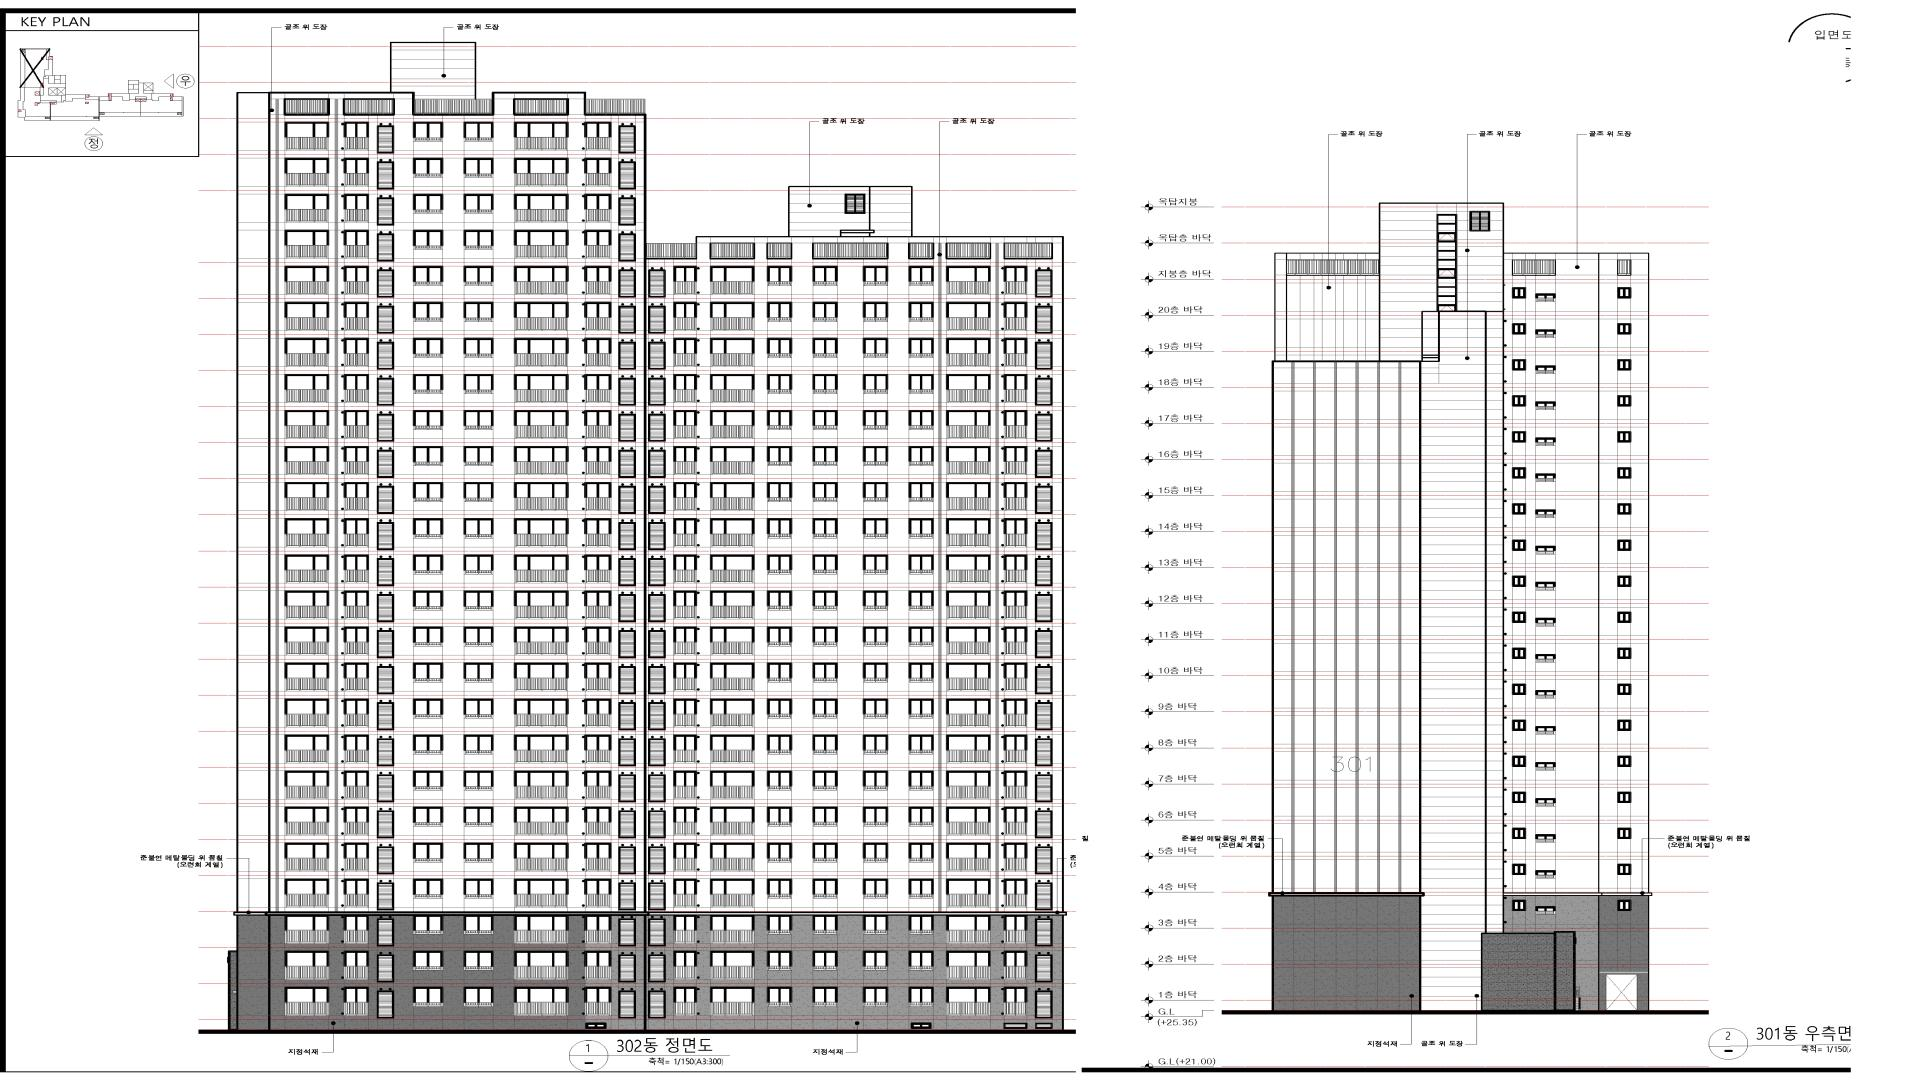door: (1606, 975, 1638, 1010)
wall: (228, 42, 1064, 1034), (1271, 203, 1650, 1014)
window: (514, 518, 568, 547), (514, 446, 568, 475), (514, 373, 568, 402), (514, 338, 568, 367), (514, 302, 568, 331), (514, 194, 568, 223), (514, 121, 568, 150), (514, 878, 568, 907), (514, 770, 568, 799), (514, 662, 568, 691), (514, 626, 568, 655), (514, 591, 568, 620), (514, 229, 567, 258), (514, 555, 568, 583), (514, 483, 568, 510), (514, 410, 568, 438), (514, 266, 568, 294), (514, 158, 568, 186), (514, 988, 568, 1015), (513, 951, 567, 978), (514, 915, 568, 943), (514, 843, 568, 870), (514, 807, 568, 835), (514, 699, 568, 727), (1286, 260, 1379, 276), (516, 735, 568, 762), (709, 265, 754, 295), (947, 373, 990, 404), (947, 806, 990, 836), (947, 265, 990, 295), (285, 265, 330, 294), (709, 302, 754, 331), (945, 699, 990, 728), (945, 662, 990, 691), (945, 555, 990, 584), (945, 447, 990, 476), (945, 410, 990, 439), (284, 554, 328, 583), (709, 375, 754, 404), (709, 518, 754, 547), (709, 662, 754, 691), (709, 843, 754, 872), (284, 699, 330, 727), (284, 735, 330, 762), (947, 770, 990, 799), (947, 735, 990, 764), (947, 626, 990, 655), (947, 591, 990, 620), (947, 518, 990, 547), (947, 483, 990, 512), (947, 338, 990, 367), (285, 662, 328, 691), (711, 338, 754, 367), (711, 410, 754, 439), (711, 446, 754, 475), (711, 483, 754, 512), (711, 554, 754, 583), (711, 591, 754, 620), (711, 626, 754, 655), (711, 699, 754, 728), (711, 735, 754, 764), (711, 770, 754, 799), (711, 807, 754, 836), (711, 878, 754, 907), (711, 915, 754, 944), (711, 951, 754, 980), (711, 986, 754, 1015), (947, 986, 990, 1015), (947, 951, 990, 980), (947, 914, 990, 943), (947, 878, 990, 907), (947, 843, 990, 872), (947, 302, 990, 331), (285, 121, 330, 149), (285, 158, 330, 186), (285, 194, 330, 222), (285, 229, 330, 257), (285, 302, 330, 330), (285, 338, 330, 365), (285, 375, 330, 402), (285, 410, 330, 438), (285, 446, 330, 473), (285, 483, 330, 510), (285, 518, 330, 546), (285, 591, 330, 618), (285, 626, 330, 654), (285, 770, 330, 798), (285, 807, 330, 835), (285, 843, 330, 870), (285, 878, 330, 906), (285, 915, 330, 943), (285, 951, 330, 978), (285, 986, 330, 1014), (1436, 241, 1457, 277), (344, 554, 369, 583), (344, 626, 369, 655), (344, 699, 369, 728), (344, 735, 369, 764), (344, 770, 369, 799), (344, 878, 369, 907), (344, 951, 369, 980), (585, 626, 611, 655), (585, 591, 611, 620), (585, 554, 611, 583), (585, 518, 611, 547), (585, 446, 611, 475), (585, 410, 611, 439), (585, 338, 611, 367), (585, 302, 611, 331), (344, 986, 369, 1015), (585, 986, 611, 1015), (585, 951, 611, 980), (585, 914, 611, 943), (585, 878, 611, 907), (585, 843, 611, 872), (585, 770, 611, 799), (585, 735, 611, 764), (585, 229, 611, 258), (585, 194, 611, 223), (585, 121, 611, 150), (344, 121, 369, 150), (344, 194, 369, 223), (344, 302, 369, 331), (344, 410, 369, 439), (344, 446, 369, 475), (1004, 554, 1027, 584), (1436, 278, 1457, 311), (344, 591, 369, 618), (344, 807, 369, 835), (585, 483, 611, 510), (585, 375, 611, 402), (585, 266, 611, 294), (585, 807, 611, 835), (585, 699, 611, 727), (585, 663, 611, 691), (585, 158, 611, 186), (344, 158, 369, 186), (344, 375, 369, 402), (344, 483, 369, 510), (344, 518, 368, 547), (344, 662, 368, 691), (344, 843, 368, 872), (344, 915, 368, 944), (674, 554, 698, 583), (1004, 375, 1027, 404), (1004, 338, 1027, 367), (1004, 302, 1027, 331), (1004, 266, 1027, 295), (674, 446, 698, 475), (1004, 770, 1027, 799), (1004, 698, 1027, 727), (1004, 591, 1027, 620), (1004, 518, 1027, 547), (1004, 481, 1027, 510), (1004, 446, 1027, 475), (1004, 410, 1027, 439), (344, 229, 368, 258), (344, 338, 368, 367), (674, 951, 698, 980), (1004, 986, 1027, 1015), (1004, 951, 1027, 980), (1004, 914, 1027, 943), (1004, 878, 1027, 907), (1004, 843, 1027, 872), (1004, 807, 1027, 836), (1511, 260, 1555, 276), (344, 266, 368, 294), (674, 483, 696, 512), (674, 518, 696, 547), (674, 591, 696, 620), (674, 626, 696, 655), (674, 662, 696, 691), (674, 699, 696, 728), (674, 735, 696, 764), (674, 770, 696, 799), (674, 807, 696, 836), (674, 843, 696, 872), (674, 878, 696, 907), (674, 266, 696, 295), (674, 302, 696, 331), (674, 338, 696, 367), (674, 375, 696, 404), (674, 410, 696, 439), (1005, 735, 1027, 764), (1005, 662, 1027, 691), (1005, 626, 1027, 655), (674, 915, 696, 944), (674, 986, 696, 1015), (463, 554, 493, 575), (463, 914, 493, 935), (413, 914, 443, 935), (413, 554, 443, 575), (647, 338, 666, 371), (463, 121, 493, 141), (463, 375, 493, 394), (463, 662, 493, 682), (463, 843, 493, 862), (463, 878, 493, 898), (413, 986, 443, 1006), (413, 951, 443, 971), (413, 878, 443, 898), (413, 843, 443, 862), (413, 807, 443, 827), (413, 770, 443, 790), (413, 735, 443, 754), (413, 699, 443, 719), (413, 662, 443, 682), (413, 591, 443, 611), (413, 518, 443, 538), (413, 483, 443, 502), (413, 446, 443, 465), (413, 410, 443, 430), (413, 375, 443, 394), (413, 338, 443, 357), (413, 302, 443, 322), (413, 266, 443, 286), (463, 158, 493, 178), (463, 266, 493, 286), (463, 302, 493, 322), (463, 338, 493, 357), (413, 229, 443, 249), (413, 194, 443, 214), (413, 158, 443, 178), (413, 121, 443, 141), (647, 410, 666, 442), (647, 483, 666, 514), (647, 699, 666, 731), (647, 735, 666, 766), (647, 771, 666, 803), (647, 915, 666, 947), (1436, 214, 1457, 241), (464, 410, 493, 430), (464, 446, 493, 465), (464, 483, 493, 502), (464, 518, 493, 538), (464, 591, 493, 611), (464, 626, 493, 646), (464, 699, 493, 719), (464, 735, 493, 754), (464, 770, 493, 790), (464, 807, 493, 827), (464, 951, 493, 971), (464, 986, 493, 1006), (414, 626, 443, 646), (464, 194, 493, 214), (464, 229, 493, 249), (618, 770, 636, 803), (618, 446, 636, 479), (618, 265, 636, 298), (649, 878, 666, 911), (649, 986, 666, 1019), (1035, 662, 1052, 695), (377, 121, 394, 154), (862, 878, 889, 899), (862, 806, 889, 827), (766, 914, 793, 935), (377, 843, 394, 874), (377, 915, 394, 947), (377, 951, 394, 982), (377, 986, 394, 1018), (618, 986, 636, 1018), (618, 951, 636, 982), (618, 914, 636, 945), (618, 878, 636, 910), (618, 843, 636, 874), (618, 807, 636, 839), (618, 735, 636, 766), (618, 699, 636, 731), (618, 663, 636, 695), (618, 626, 636, 658), (618, 591, 636, 622), (618, 555, 636, 587), (618, 518, 636, 550), (618, 483, 636, 514), (618, 410, 636, 442), (618, 375, 636, 406), (618, 338, 636, 369), (618, 302, 636, 334), (618, 229, 636, 261), (618, 194, 636, 225), (618, 158, 636, 190), (618, 121, 636, 153), (649, 266, 666, 298), (649, 302, 666, 334), (649, 375, 666, 406), (649, 447, 666, 479), (649, 518, 666, 550), (649, 555, 666, 587), (649, 591, 666, 622), (649, 626, 666, 658), (649, 663, 666, 695), (649, 807, 666, 839), (649, 843, 666, 874), (649, 951, 666, 982), (1035, 986, 1052, 1018), (1035, 951, 1052, 982), (1035, 915, 1052, 947), (1035, 880, 1052, 911), (1035, 843, 1052, 874), (1035, 807, 1052, 839), (1035, 770, 1052, 802), (1035, 735, 1052, 766), (1035, 699, 1052, 731), (1035, 626, 1052, 658), (1035, 591, 1052, 622), (1035, 555, 1052, 587), (1035, 518, 1052, 550), (1035, 483, 1052, 514), (1035, 446, 1052, 477), (1035, 410, 1052, 442), (1035, 375, 1052, 406), (1035, 338, 1052, 369), (1035, 302, 1052, 334), (1035, 266, 1052, 298), (377, 158, 394, 190), (377, 194, 394, 225), (377, 229, 394, 261), (377, 266, 394, 298), (377, 302, 394, 334), (377, 338, 394, 369), (377, 375, 394, 406), (377, 410, 394, 442), (377, 446, 394, 477), (377, 483, 394, 514), (377, 518, 394, 550), (377, 555, 394, 587), (377, 591, 394, 622), (377, 626, 394, 658), (377, 662, 394, 694), (377, 699, 394, 731), (377, 735, 394, 766), (377, 770, 394, 802), (377, 807, 394, 839), (862, 554, 887, 575), (767, 554, 793, 575), (909, 662, 934, 683), (812, 481, 837, 502), (812, 554, 837, 575), (862, 698, 887, 719), (812, 662, 837, 683), (862, 663, 889, 683), (862, 626, 889, 646), (862, 591, 889, 611), (862, 410, 889, 430), (862, 338, 889, 357), (862, 302, 889, 322), (766, 591, 793, 611), (766, 518, 793, 538), (766, 483, 793, 502), (766, 446, 793, 465), (766, 410, 793, 430), (766, 375, 793, 394), (766, 338, 793, 357), (766, 302, 793, 322), (909, 770, 935, 790), (862, 266, 889, 286), (812, 338, 839, 357), (812, 591, 839, 611), (909, 951, 935, 971), (862, 986, 889, 1006), (862, 915, 889, 935), (862, 843, 889, 862), (862, 770, 889, 790), (862, 735, 889, 754), (812, 735, 839, 754), (812, 807, 839, 827), (812, 986, 839, 1006), (766, 986, 793, 1006), (766, 951, 793, 971), (766, 878, 793, 898), (766, 843, 793, 862), (766, 807, 793, 827), (766, 770, 793, 790), (766, 699, 793, 719), (766, 662, 793, 682), (377, 880, 394, 910), (909, 266, 934, 286), (909, 302, 934, 322), (909, 338, 934, 357), (909, 375, 934, 394), (909, 410, 934, 430), (909, 446, 934, 465), (909, 483, 934, 502), (909, 518, 934, 538), (862, 518, 887, 538), (862, 483, 887, 502), (862, 446, 887, 465), (862, 375, 887, 394), (767, 266, 793, 286), (909, 554, 934, 574), (909, 591, 934, 611), (909, 626, 934, 646), (909, 699, 934, 719), (909, 735, 934, 754), (909, 807, 934, 827), (909, 843, 934, 862), (909, 878, 934, 898), (909, 915, 934, 935), (812, 266, 837, 286), (812, 302, 837, 322), (812, 375, 837, 394), (812, 410, 837, 430), (812, 446, 837, 465), (812, 518, 837, 538), (812, 626, 837, 646), (909, 986, 934, 1006), (862, 951, 887, 971), (812, 699, 837, 719), (812, 770, 837, 790), (812, 843, 837, 862), (812, 878, 837, 898), (812, 915, 837, 935), (812, 951, 837, 971), (767, 735, 793, 754), (767, 626, 793, 646), (1469, 211, 1490, 232), (844, 194, 865, 214), (1617, 260, 1631, 276), (1535, 798, 1556, 807), (1535, 690, 1556, 699), (1535, 582, 1556, 591), (1535, 509, 1556, 518), (1535, 365, 1556, 375), (1511, 899, 1526, 911), (1511, 864, 1526, 876), (1511, 791, 1526, 803), (1511, 647, 1526, 659), (1511, 539, 1526, 551), (1511, 467, 1526, 479), (1511, 431, 1526, 443), (1513, 396, 1527, 407), (1511, 359, 1526, 371), (1511, 323, 1526, 335), (1617, 899, 1631, 911), (1617, 864, 1631, 876), (1617, 791, 1631, 803), (1617, 756, 1631, 767), (1617, 647, 1631, 659), (1617, 612, 1631, 624), (1617, 575, 1631, 587), (1617, 539, 1631, 551), (1617, 467, 1631, 479), (1617, 431, 1631, 443), (1617, 359, 1631, 371), (1617, 323, 1631, 335), (1617, 287, 1631, 299), (1535, 906, 1556, 914), (1535, 870, 1556, 878), (1535, 835, 1556, 843), (1535, 762, 1556, 770), (1535, 727, 1556, 735), (1535, 654, 1556, 662), (1535, 618, 1556, 626), (1535, 546, 1556, 554), (1535, 473, 1556, 481), (1535, 438, 1556, 446), (1535, 402, 1556, 410), (1535, 330, 1556, 338), (1535, 294, 1556, 302), (1513, 756, 1526, 767), (1511, 828, 1526, 839), (1511, 720, 1526, 731), (1511, 684, 1526, 695), (1511, 612, 1526, 622), (1511, 576, 1526, 587), (1511, 287, 1526, 298), (1617, 828, 1631, 839), (1617, 720, 1631, 731), (1617, 684, 1631, 695), (1617, 504, 1631, 514), (1617, 396, 1631, 406), (911, 1022, 932, 1029), (585, 1022, 607, 1029), (1513, 504, 1526, 514), (1004, 1023, 1027, 1029), (1035, 1023, 1052, 1029)
